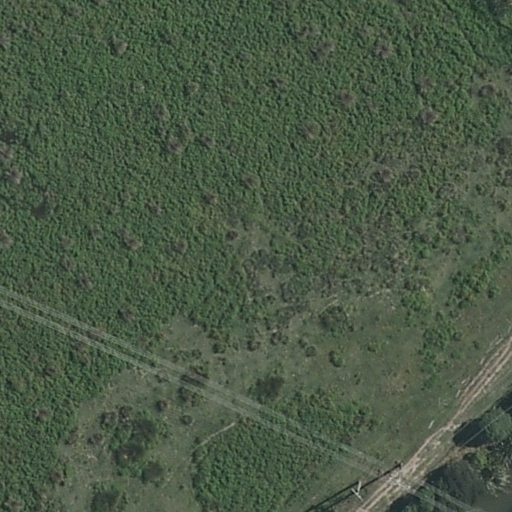DT: (351, 475, 365, 500)
